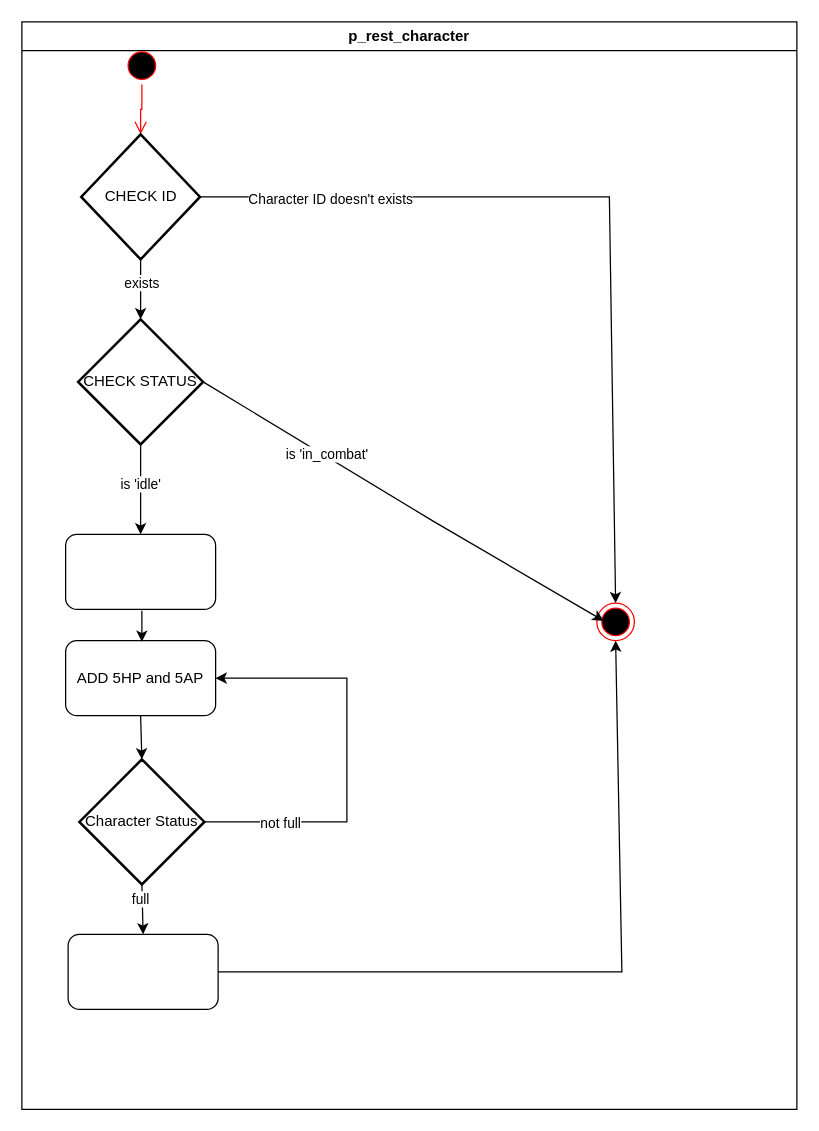
Some shapes in this 819 by 1131 pixel diagram are drawn without their labels. The centre of each missing label's shape, as x and y in pixels:
"Set Status 'idle'" belongs at pixel 142 971.
"SET STATUS 'resting'" belongs at pixel 140 571.
